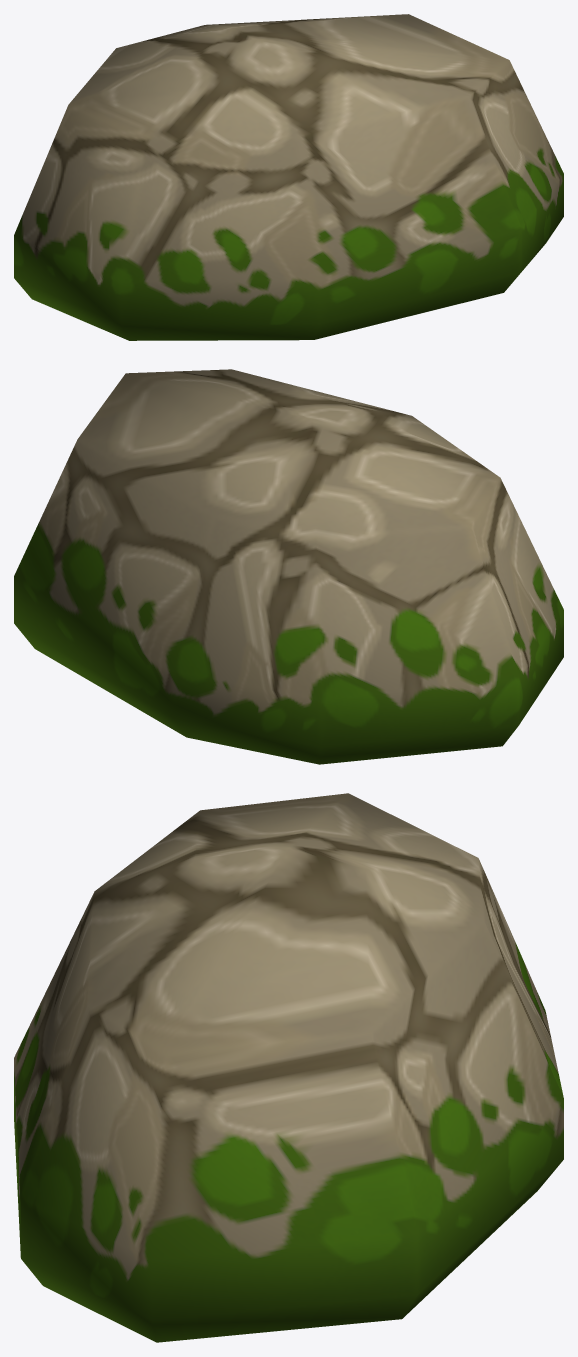
Rendered from Rock_06.FBX.
The picture shows the model from 3 angles, top to bottom: view 1: azimuth 30°, elevation 25°; view 2: azimuth 150°, elevation 25°; view 3: azimuth 270°, elevation 25°; orthographic projection. The views are drawn at different scales.
Visible parts, largest first — view 1: Rock_06; view 2: Rock_06; view 3: Rock_06.
Boxes of the visible parts, x1,y1,x2,y2 form: Rock_06: (14,14,563,340); Rock_06: (14,369,563,764); Rock_06: (14,793,563,1342).
Bounding box in the file's own units: 37.08 × 17.11 × 26.28.
